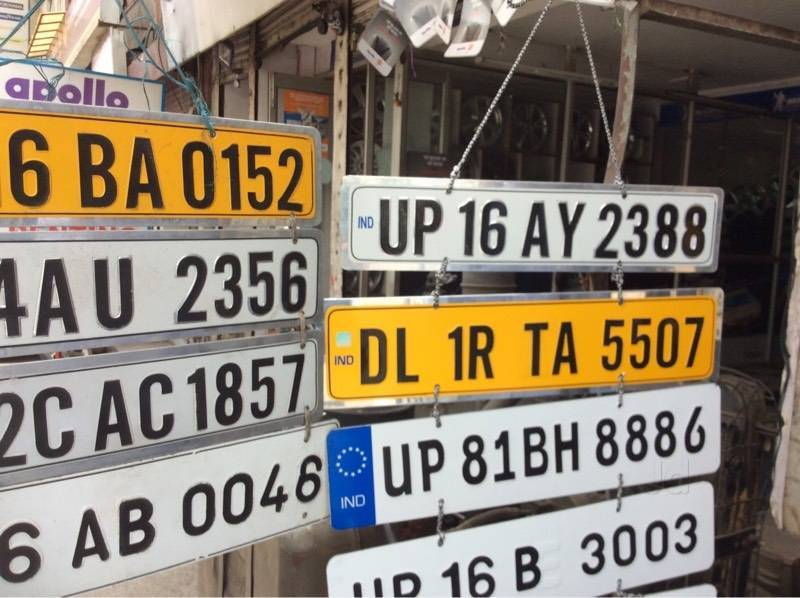number_plate: (323, 387, 754, 513), (324, 302, 721, 398), (347, 178, 721, 273)
